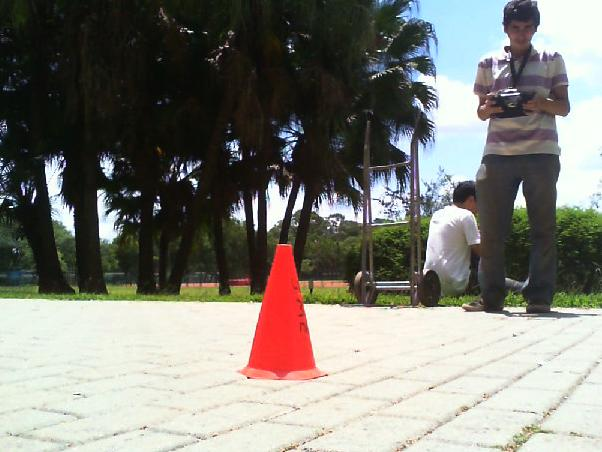0 cone: (235, 243, 328, 380)
